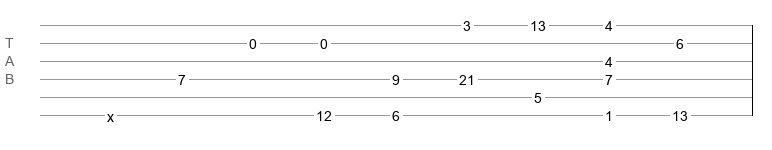0: (249, 36, 257, 46), (320, 36, 328, 46)
1: (605, 108, 613, 118)
12: (316, 108, 332, 118)
13: (530, 18, 546, 28), (672, 108, 688, 118)
21: (459, 72, 475, 82)
3: (463, 18, 471, 28)
4: (605, 18, 613, 28), (605, 54, 613, 64)
5: (534, 90, 542, 100)
6: (392, 108, 400, 118), (676, 36, 684, 46)
7: (178, 72, 186, 82), (605, 72, 613, 82)
9: (392, 72, 400, 82)
x: (107, 109, 114, 117)
